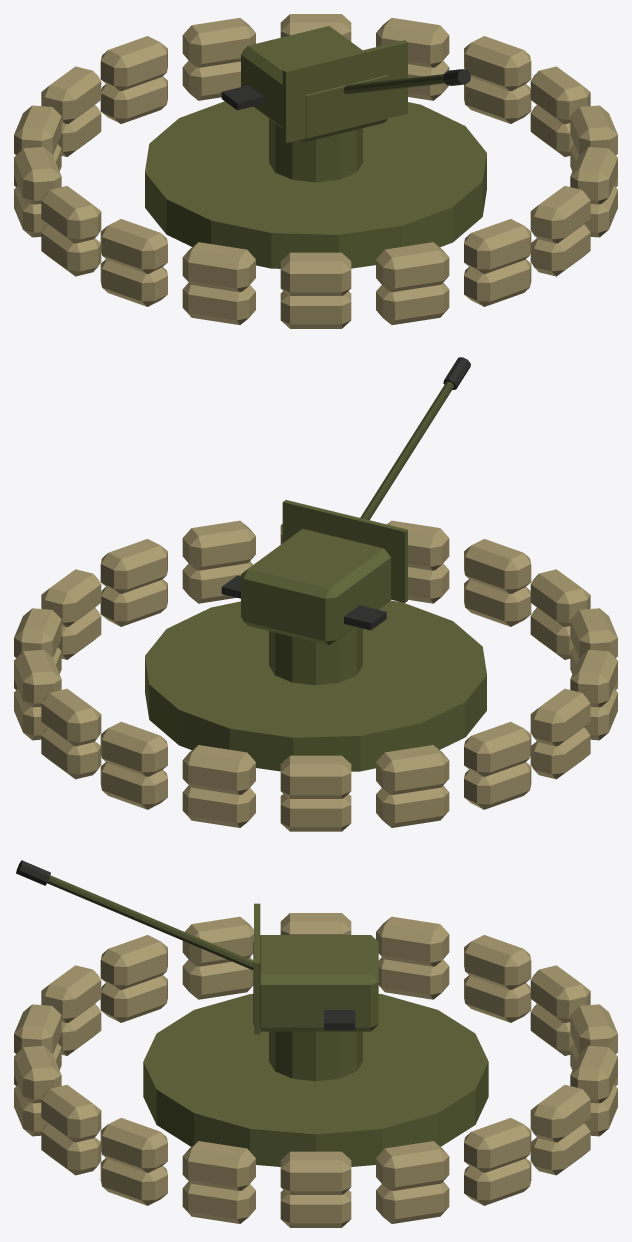
The model's file is antiaerea.glb.
The picture shows the model from 3 angles, top to bottom: view 1: azimuth 30°, elevation 25°; view 2: azimuth 150°, elevation 25°; view 3: azimuth 270°, elevation 25°; orthographic projection.
Visible parts, largest first — view 1: Estrutura.006, Torre.001; view 2: Estrutura.006, Torre.001; view 3: Estrutura.006, Torre.001.
Boxes of the visible parts, box(x1,y1,x2,y2) form: Estrutura.006: box(14, 14, 617, 328); Torre.001: box(221, 26, 470, 182); Estrutura.006: box(14, 520, 617, 831); Torre.001: box(221, 357, 470, 685); Estrutura.006: box(14, 913, 617, 1227); Torre.001: box(16, 860, 378, 1081).
Size of the model in its own units: 7.7 by 3.43 by 7.7.
